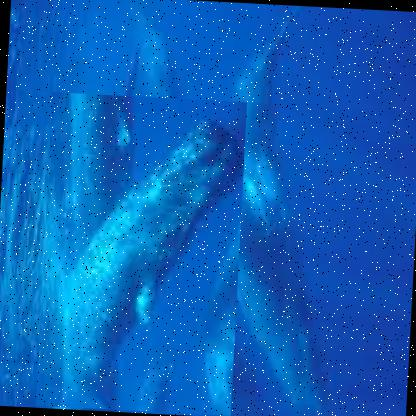sperm_whale: (36, 90, 248, 416)
